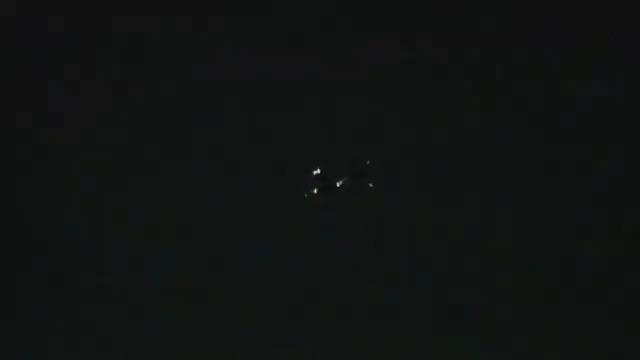Plane: (287, 158, 352, 206)
